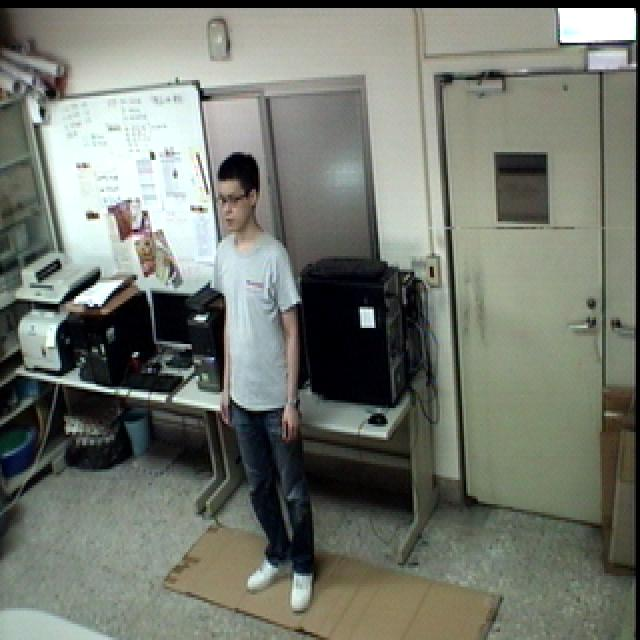stand: (204, 148, 320, 619)
